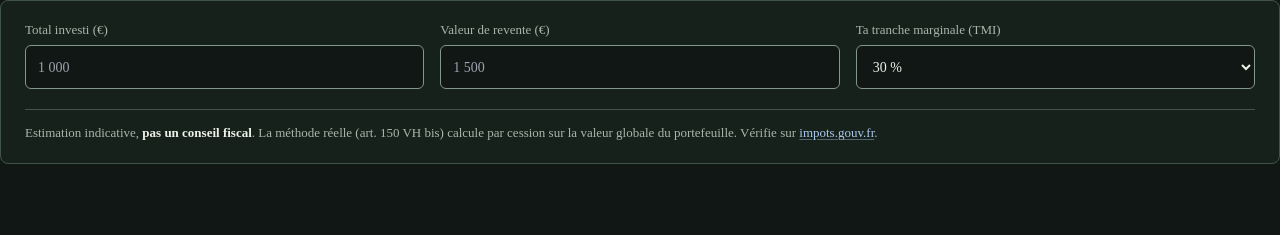
CryptoTaxCalculator › flags a moins-value when sold < invested
This screenshot has width=1280, height=235.
Step 1. Type "1000" into the field labelled "Total investi (€)" → (225, 67), box left=25, top=45, right=424, bottom=89
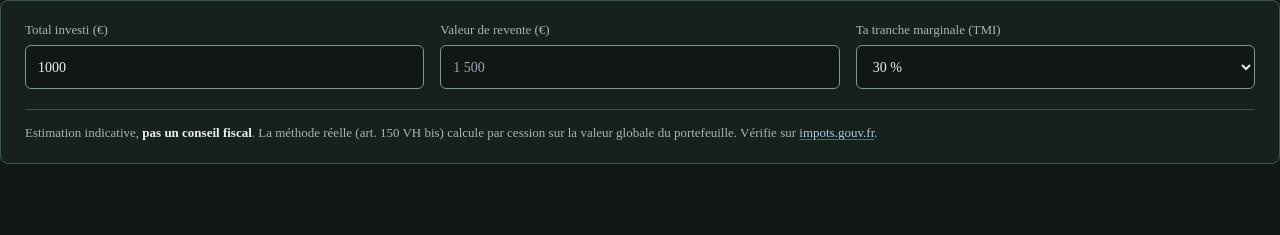
Step 2. Type "600" into the field labelled "Valeur de revente (€)" → (640, 67), box left=440, top=45, right=840, bottom=89
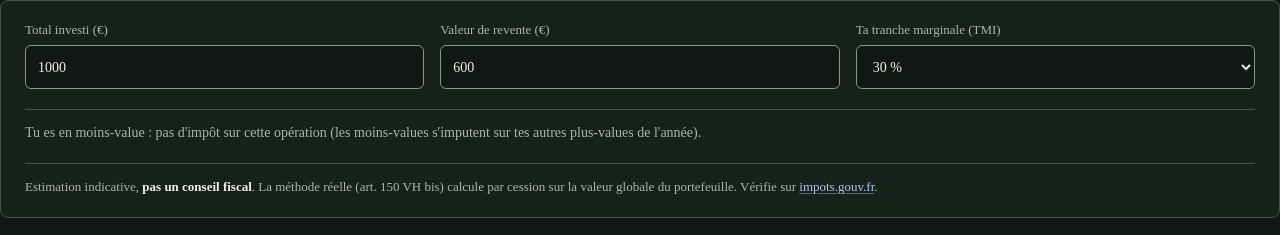
Expected: the text "moins-value" is shown, left=25, top=125, right=701, bottom=140
